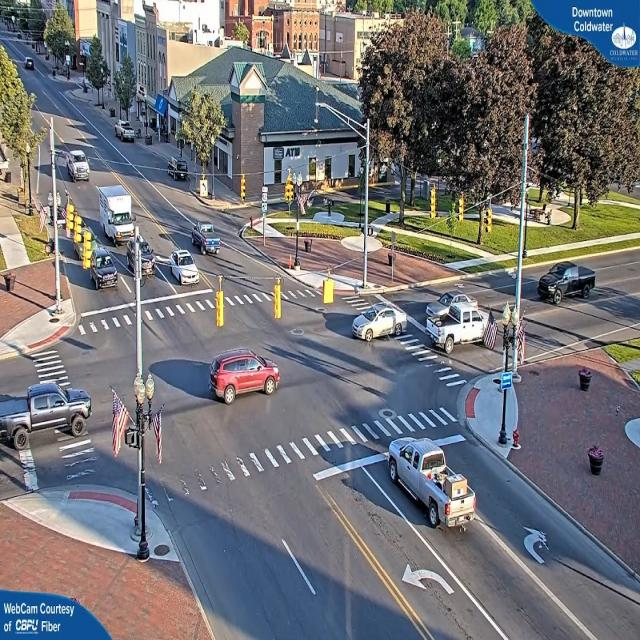car: (386, 439, 476, 537), (0, 383, 91, 446), (208, 350, 281, 404), (425, 308, 491, 354), (538, 262, 598, 303), (350, 303, 406, 340), (123, 233, 157, 274), (165, 252, 200, 287), (423, 293, 475, 315), (89, 252, 118, 288), (189, 224, 220, 256), (63, 148, 89, 183), (165, 158, 189, 180), (116, 123, 136, 143)
truck: (101, 184, 138, 244)
